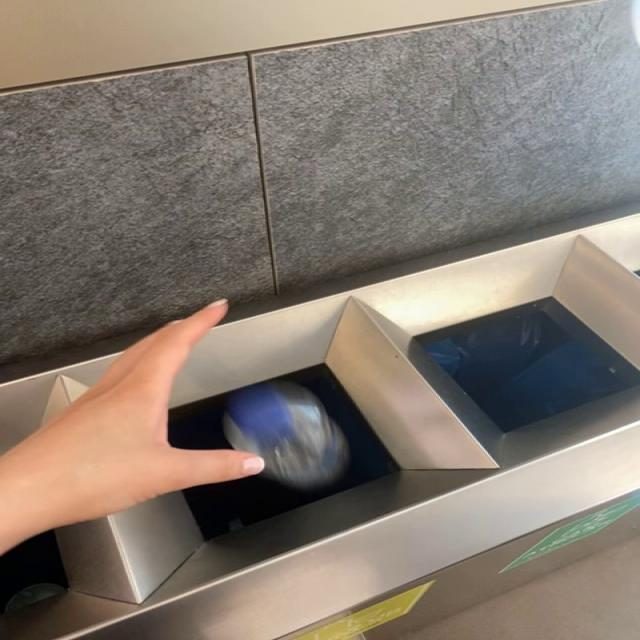plastic: (223, 381, 349, 492)
